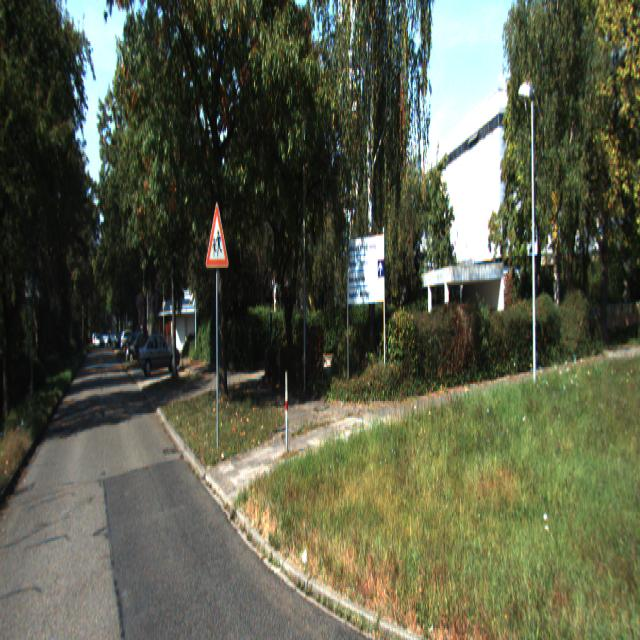Car: (137, 331, 180, 379)
